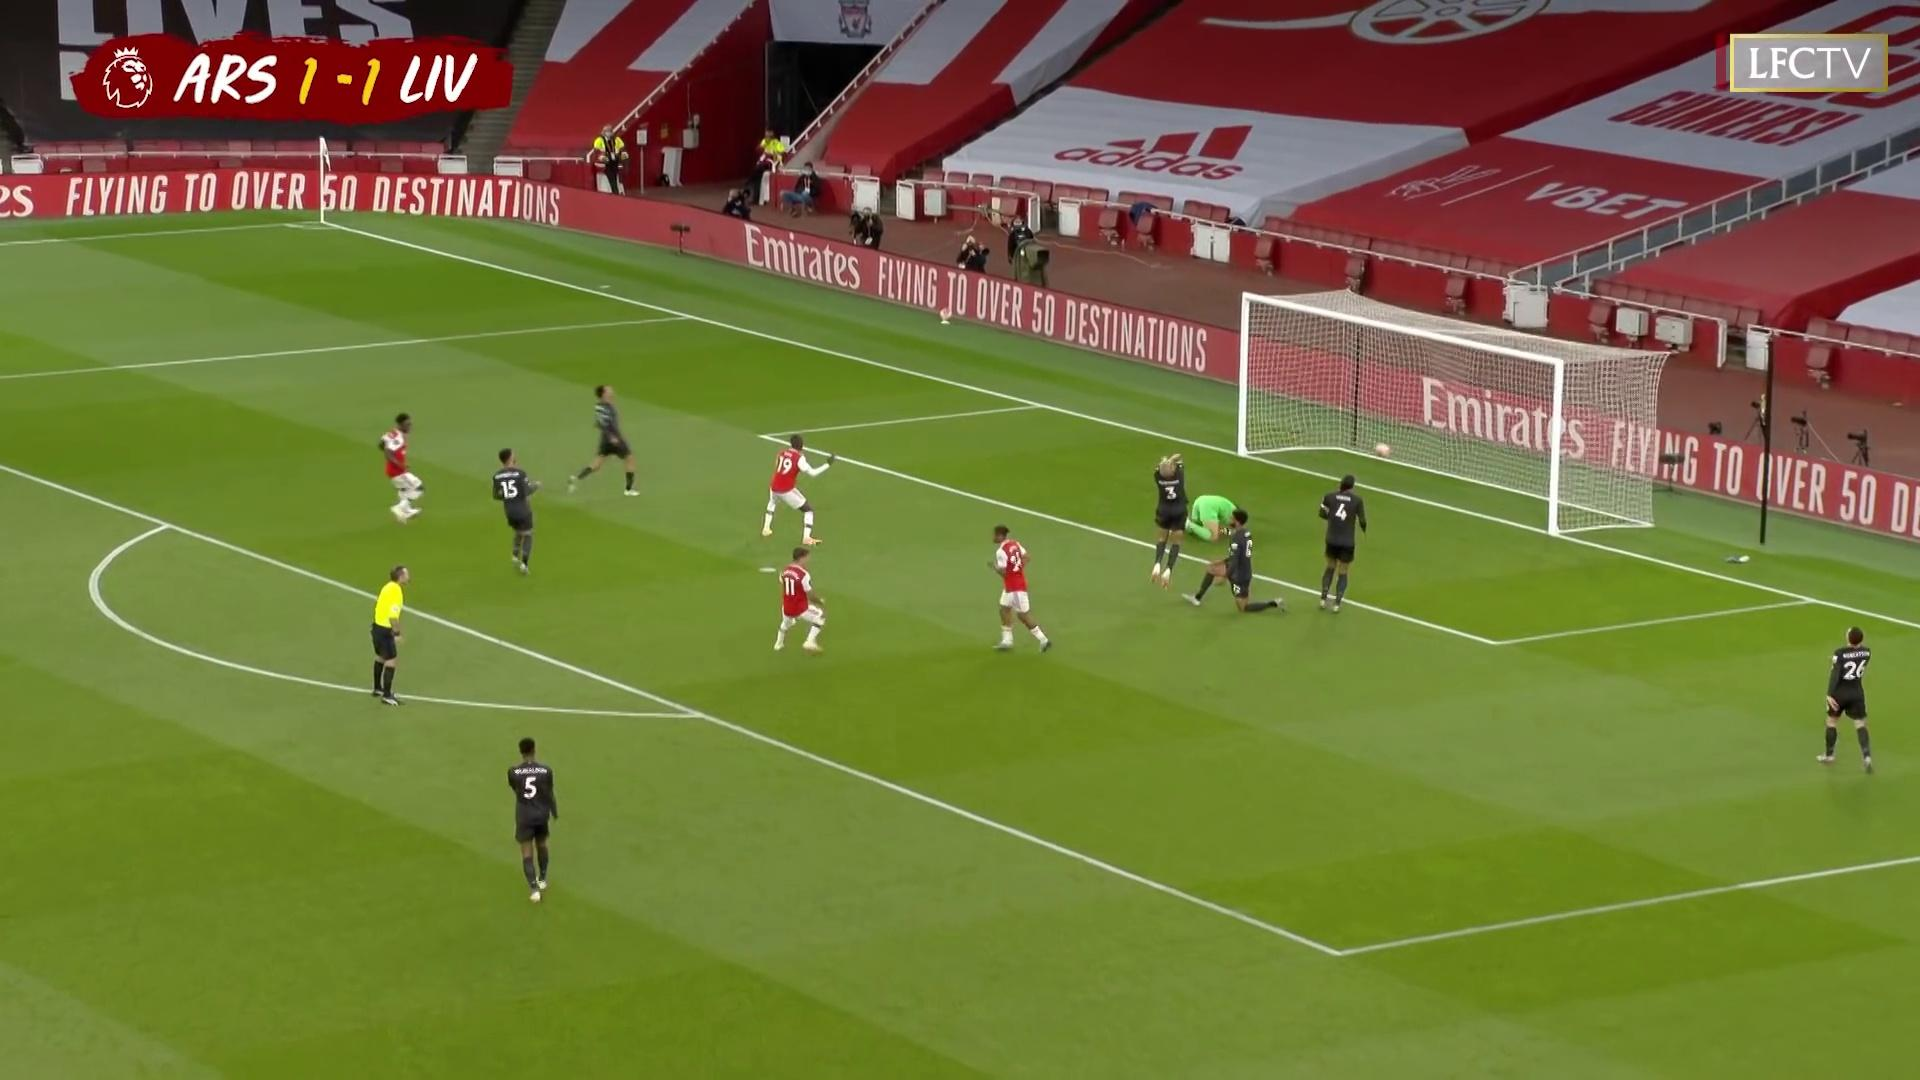ball: (1373, 440, 1391, 459)
